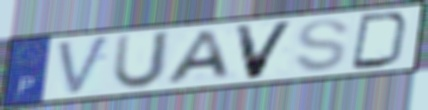A: (162, 28, 235, 86)
D: (349, 11, 413, 71)
S: (291, 17, 351, 74)
U: (109, 29, 175, 92)
V: (231, 19, 298, 82), (55, 33, 113, 98)
